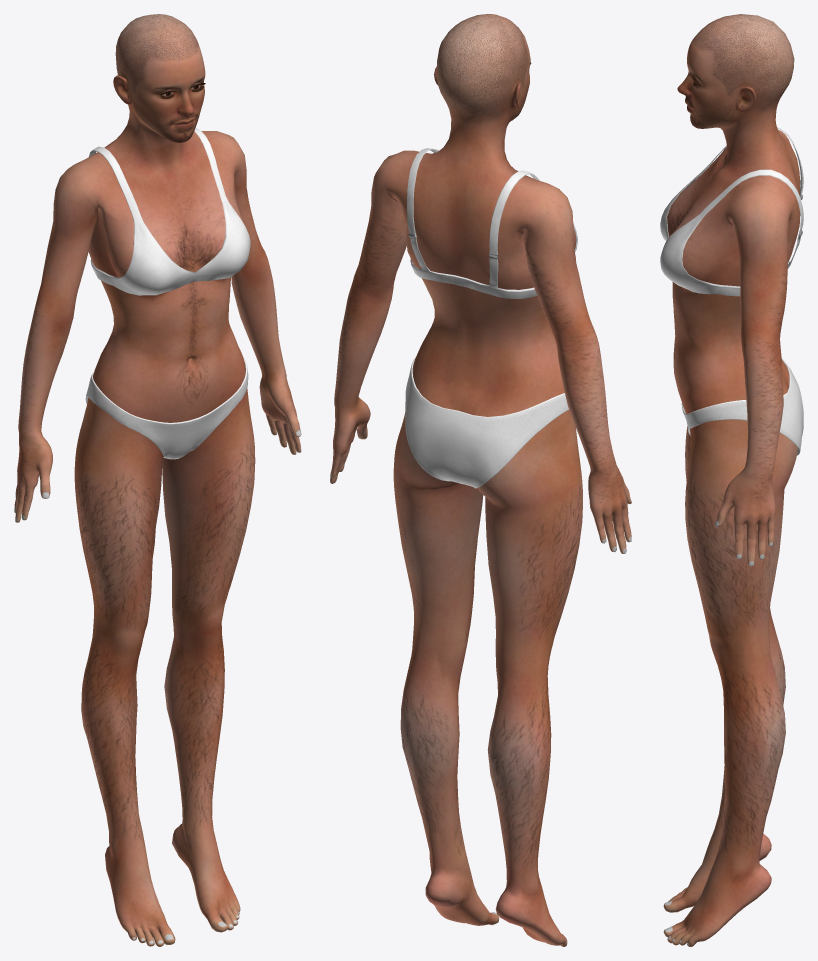
File: womanBraTiptoe.obj
3 views of the same model, side by side, from view 1: azimuth 30°, elevation 25°; view 2: azimuth 150°, elevation 25°; view 3: azimuth 270°, elevation 25° (orthographic). The views are drawn at different scales.
Parts seen in each view (by area): view 1: CC_Base_Body, Bra, Underwear Bottoms; view 2: CC_Base_Body, Underwear Bottoms, Bra; view 3: CC_Base_Body, Bra, Underwear Bottoms.
Boxes of the visible parts, <box> form: CC_Base_Body: <box>14,14,301,946</box>; Bra: <box>89,128,250,295</box>; Underwear Bottoms: <box>85,357,248,459</box>; CC_Base_Body: <box>330,14,631,946</box>; Underwear Bottoms: <box>405,358,568,488</box>; Bra: <box>407,148,577,298</box>; CC_Base_Body: <box>663,14,800,946</box>; Bra: <box>660,128,803,296</box>; Underwear Bottoms: <box>681,358,803,455</box>.
Bounding box in the file's own units: 61.64 × 188 × 26.9.
